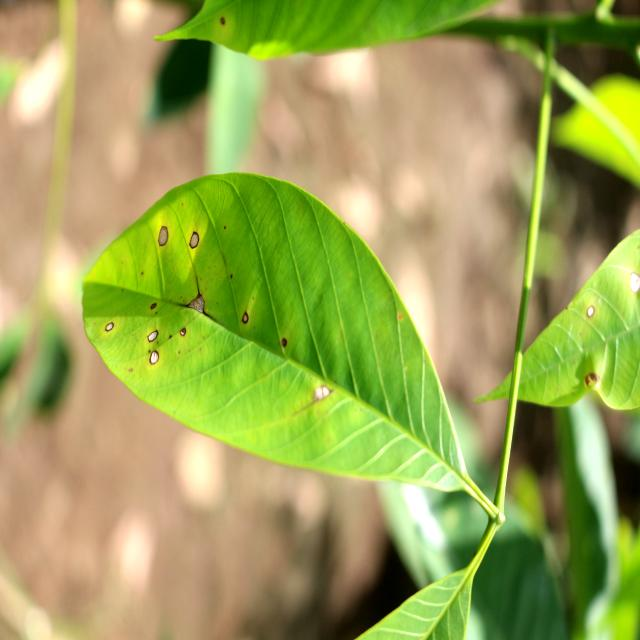Colletotrichum: (158, 226, 169, 247), (190, 231, 200, 249), (150, 350, 160, 364), (148, 330, 158, 342), (586, 305, 594, 318), (105, 322, 114, 332), (242, 312, 248, 324), (180, 327, 186, 336), (282, 338, 288, 347), (150, 303, 157, 310)
